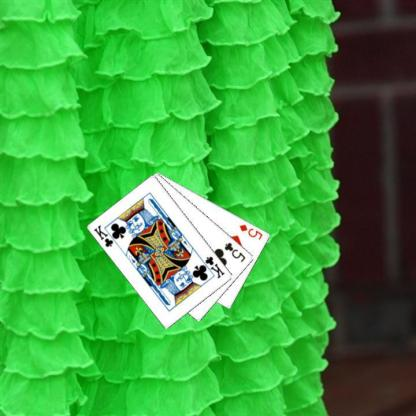5C: (222, 240, 247, 263)
5D: (237, 222, 264, 241)
KC: (91, 223, 120, 249), (198, 254, 226, 280)
